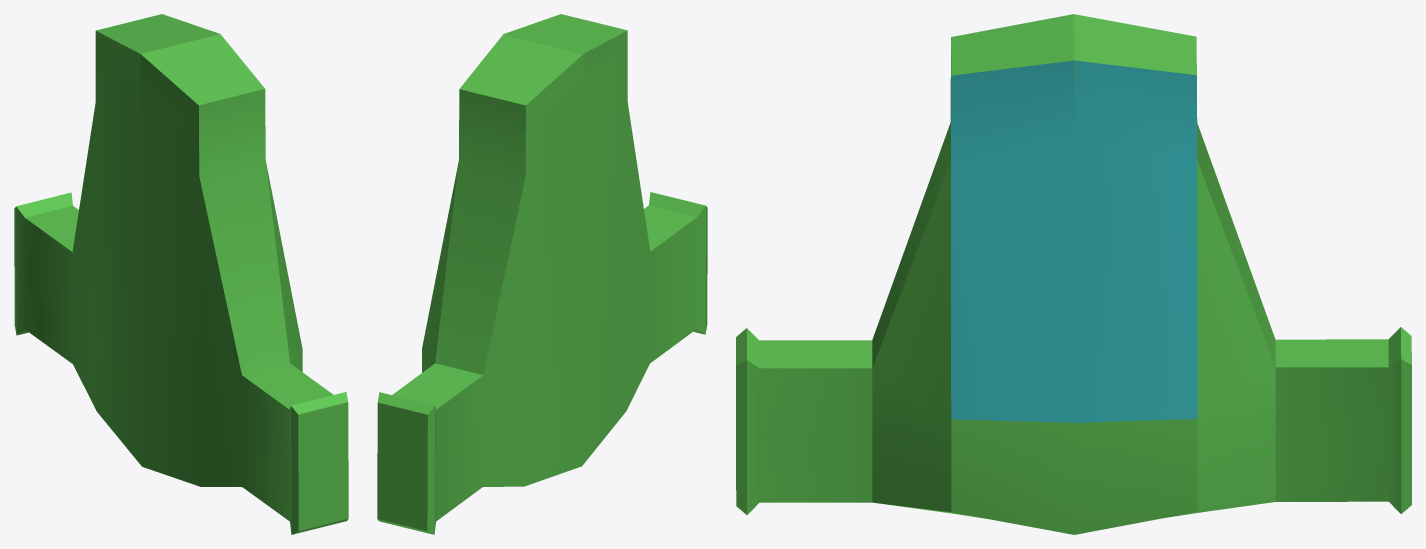
File: GreenShip12.fbx
3 renders of one model, left to right at view 1: azimuth 30°, elevation 25°; view 2: azimuth 150°, elevation 25°; view 3: azimuth 270°, elevation 25°, orthographic. The views are drawn at different scales.
Visible parts, largest first — view 1: Cube; view 2: Cube; view 3: Cube.
Boxes of the visible parts, x1,y1,x2,y2 form: Cube: (14,14,348,534); Cube: (377,14,707,534); Cube: (736,14,1411,534).
Bounding box in the file's own units: 132 × 444 × 549.
1 material, 1 textured.
